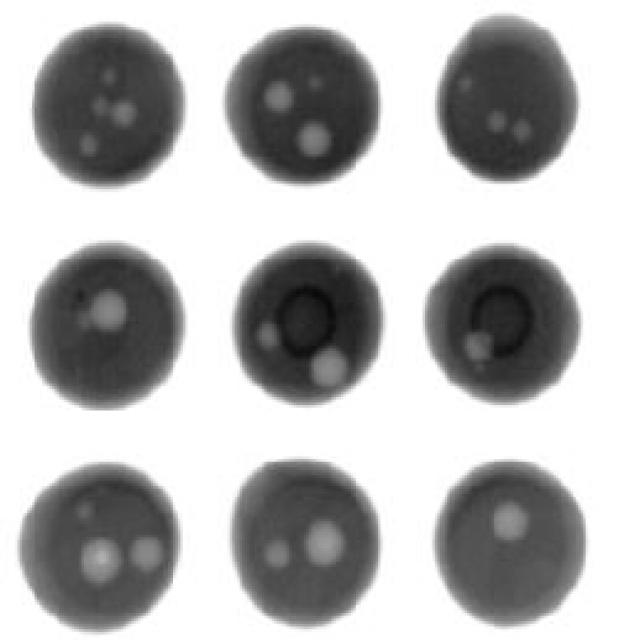component: (20, 464, 178, 631), (22, 467, 178, 631), (32, 246, 183, 409), (437, 464, 588, 626), (430, 248, 581, 402), (237, 246, 383, 404), (235, 464, 378, 625), (440, 16, 578, 180), (35, 30, 183, 182), (230, 32, 378, 180)
